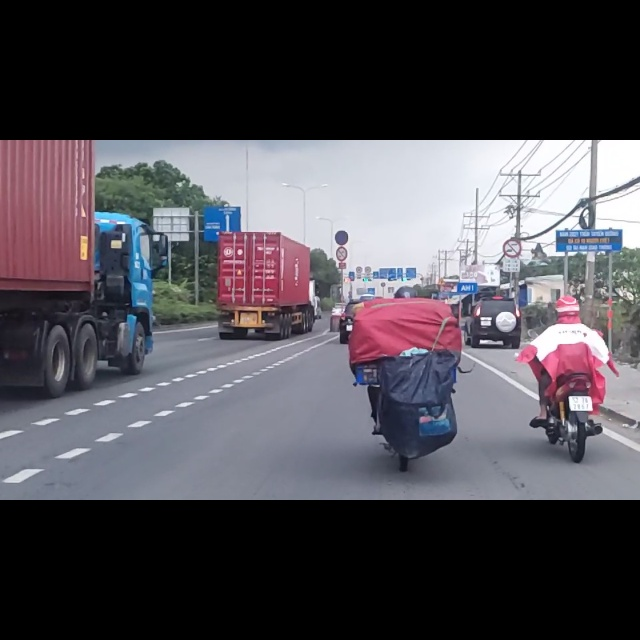bien_hieu_lenh: (503, 175, 521, 210), (334, 159, 350, 186), (337, 190, 347, 216)
